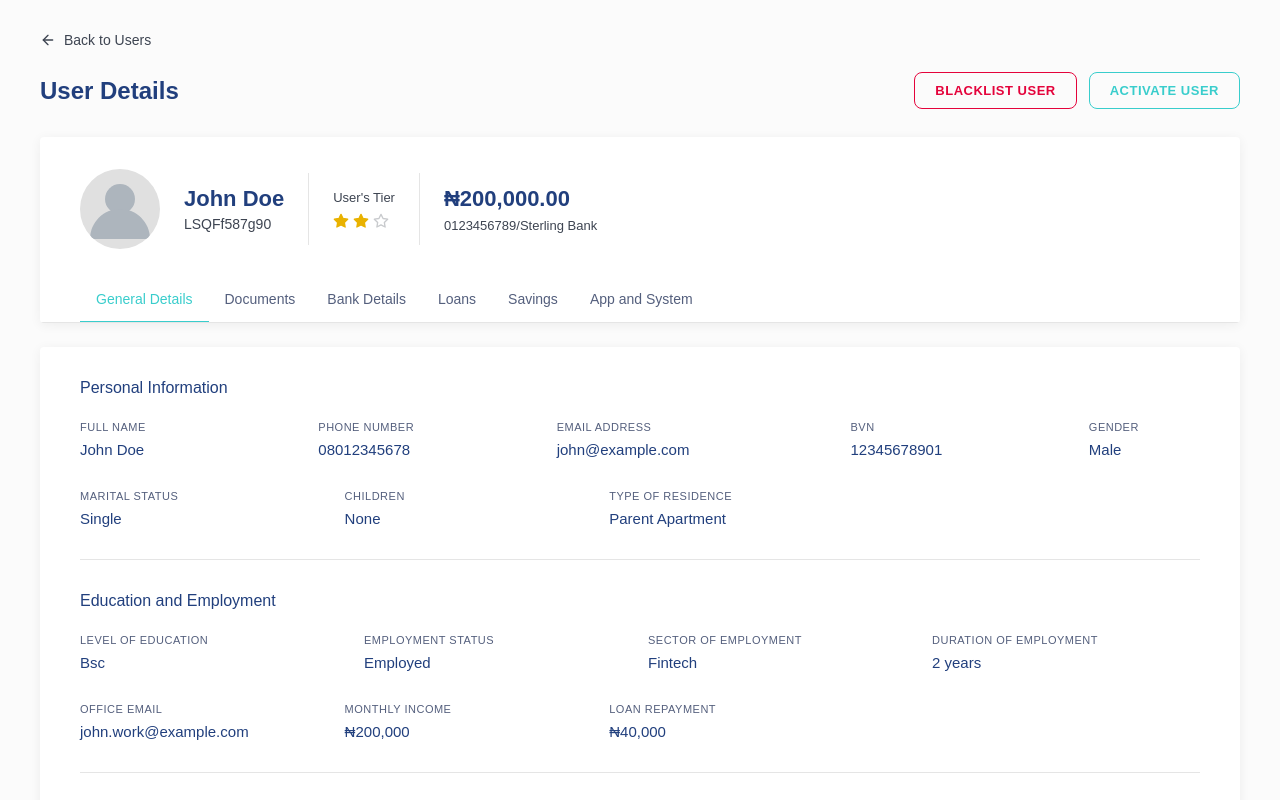
Test: UserDetails Component › Tab Switching › shows empty state message when a non-general tab is clicked
The width and height of the screenshot is (1280, 800).
Click the button "Documents" at coordinates (260, 300), box [208,277,311,323]
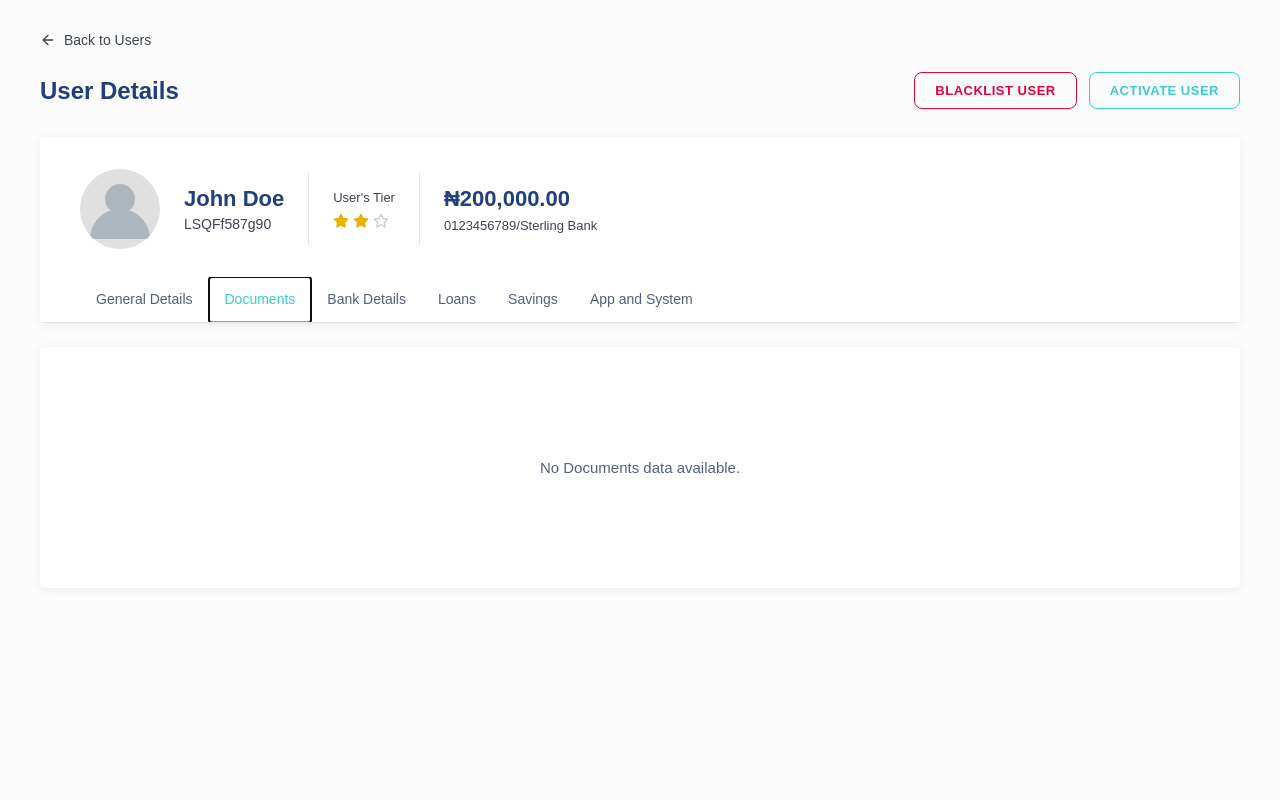
Now the text "No Documents data available." is shown, box [540,459,740,476]
